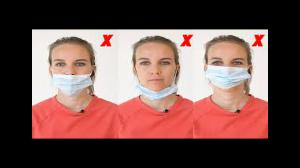mask_weared_incorrect: (135, 55, 178, 96), (52, 57, 92, 92)
with_mask: (208, 57, 248, 86)
